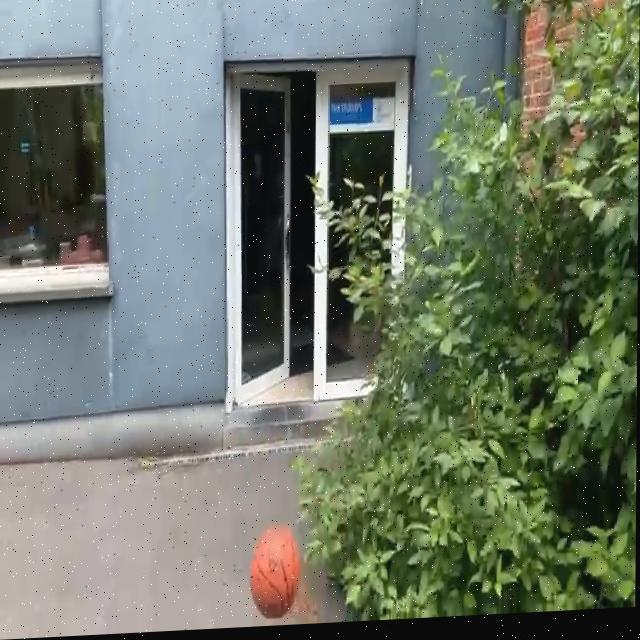Basketball: (250, 522, 303, 619)
